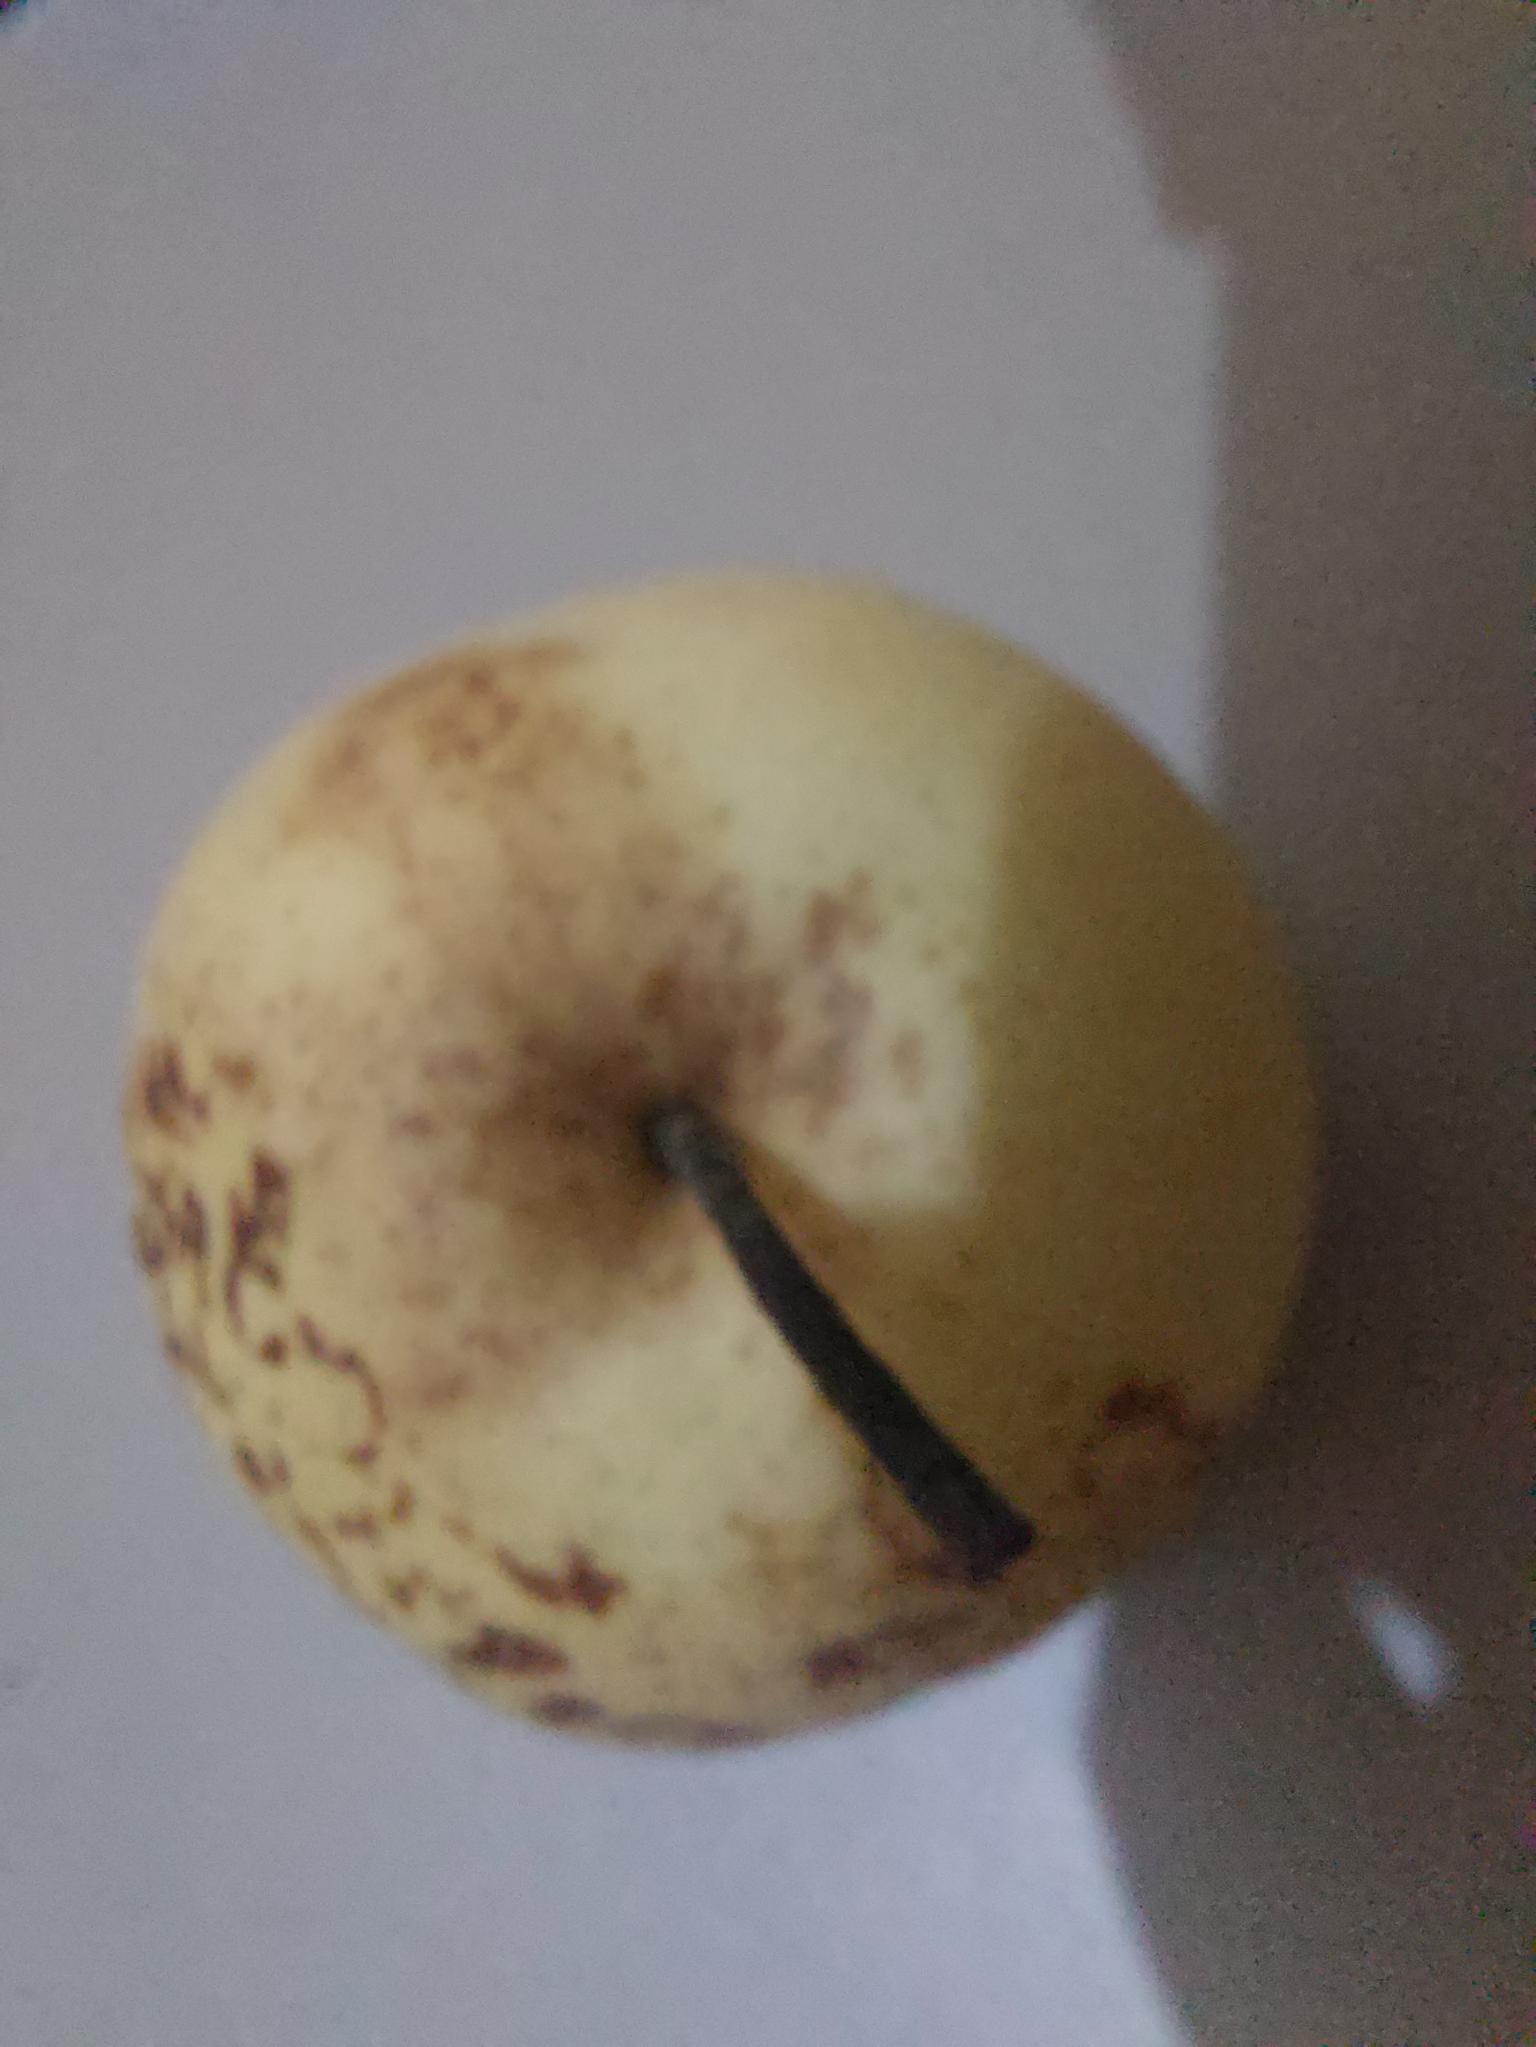Bad Pear: (132, 586, 1339, 1718)
